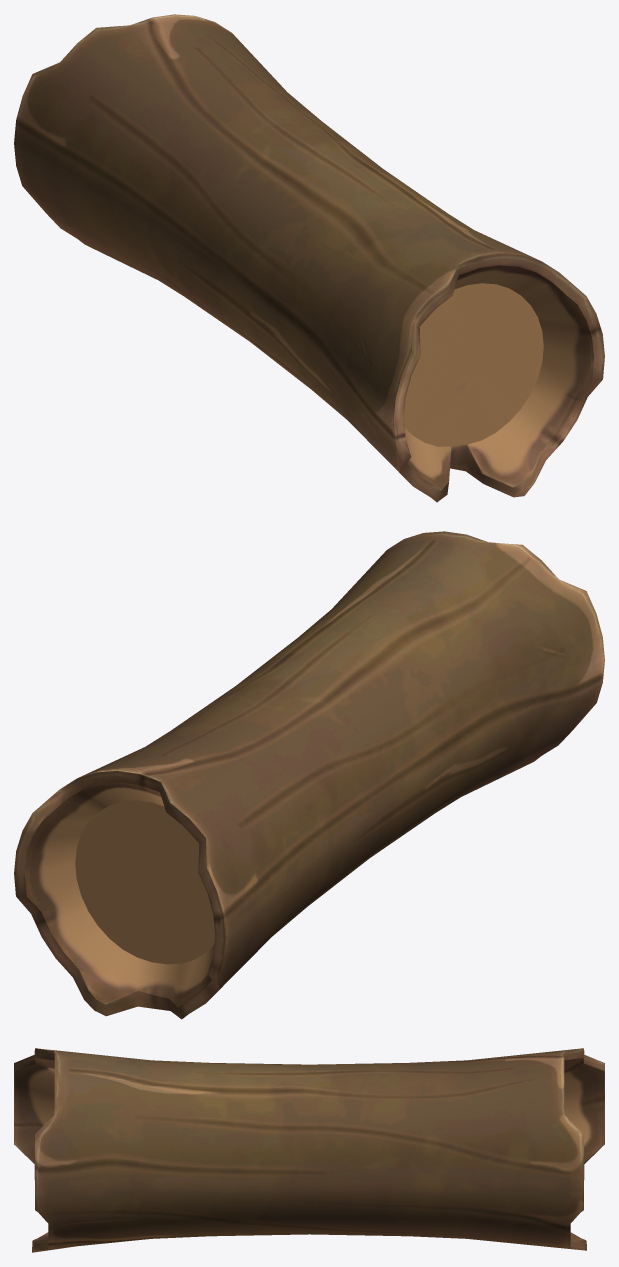
File: SM_FireWood.gltf
3 views of the same model, one above another, from view 1: azimuth 30°, elevation 25°; view 2: azimuth 150°, elevation 25°; view 3: azimuth 270°, elevation 25° (orthographic). The views are drawn at different scales.
Visible parts, largest first — view 1: SM_FireWood; view 2: SM_FireWood; view 3: SM_FireWood.
Boxes of the visible parts, x1,y1,x2,y2 form: SM_FireWood: (14, 14, 604, 502); SM_FireWood: (14, 531, 604, 1019); SM_FireWood: (14, 1048, 604, 1252).
Bounding box in the file's own units: 0.3328 × 0.3346 × 0.973.
Materials: 1 (1 with a texture image).
